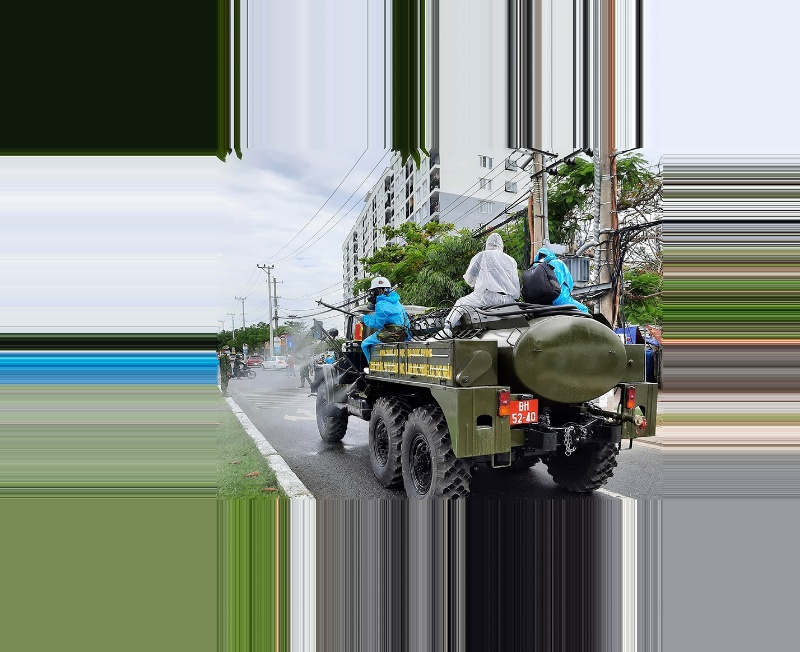plate: (507, 399, 541, 427)
